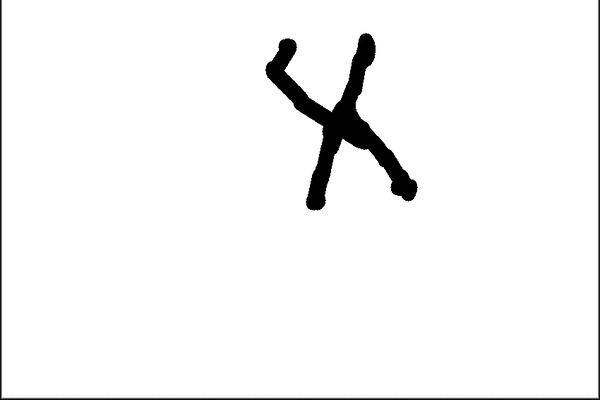X: (243, 20, 428, 225)
